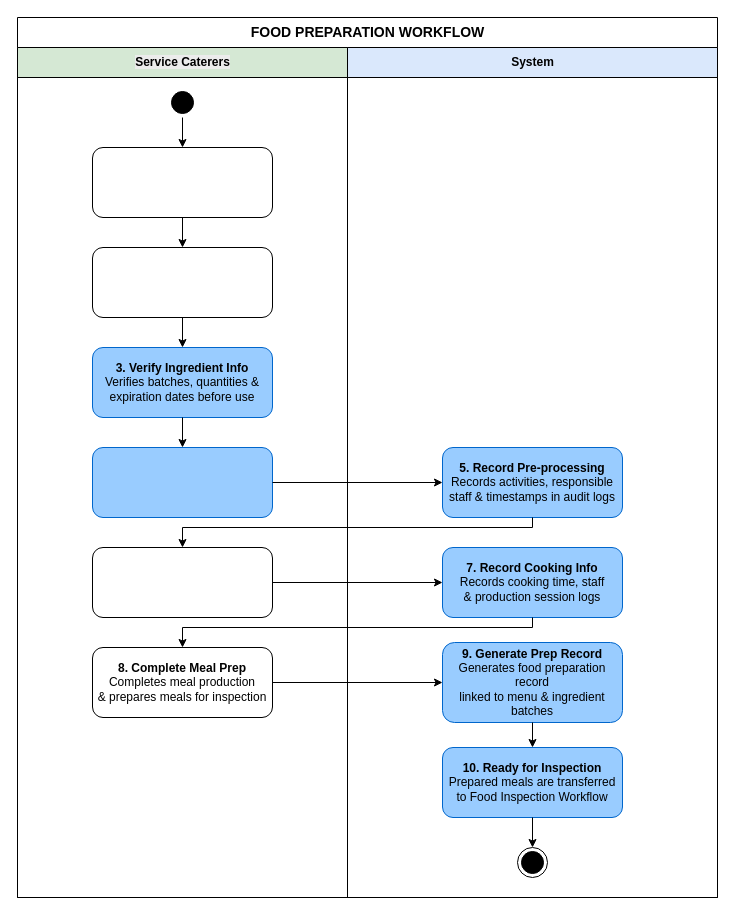
The diagram is 735 pixels wide and 915 high, and some of its shapes have lost their labels. The shapes that lost their labels are listed below. From the top down, each one's centre as x and y in pixels, then its label:
pixel 182 182: 1. Review Approved Menu Reviews approved menu & meal production plan
pixel 182 282: 2. Retrieve Ingredients Collects approved ingredients from preparation area
pixel 182 482: 4. Prepare Ingredients Washes, cuts & prepares ingredients for processing
pixel 182 582: 6. Start Cooking Process Cooks meals according to menu & recipe guidelines
